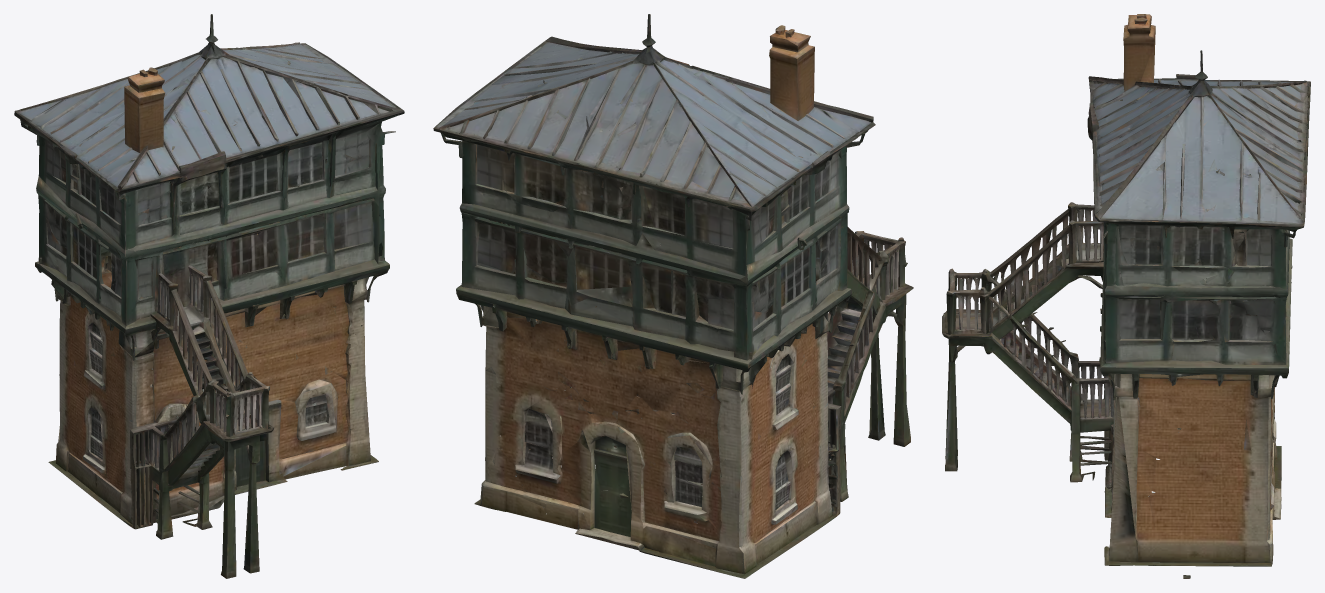
The picture shows the model from 3 angles, left to right: view 1: azimuth 30°, elevation 25°; view 2: azimuth 150°, elevation 25°; view 3: azimuth 270°, elevation 25°; orthographic projection. The views are drawn at different scales.
Visible parts, largest first — view 1: geometry_0; view 2: geometry_0; view 3: geometry_0.
Boxes of the visible parts, x1,y1,x2,y2 form: geometry_0: [14, 14, 404, 578]; geometry_0: [433, 14, 913, 578]; geometry_0: [942, 14, 1310, 578].
Size of the model in its own units: 0.6345 by 0.9246 by 0.667.
Materials: 1 (1 with a texture image).
